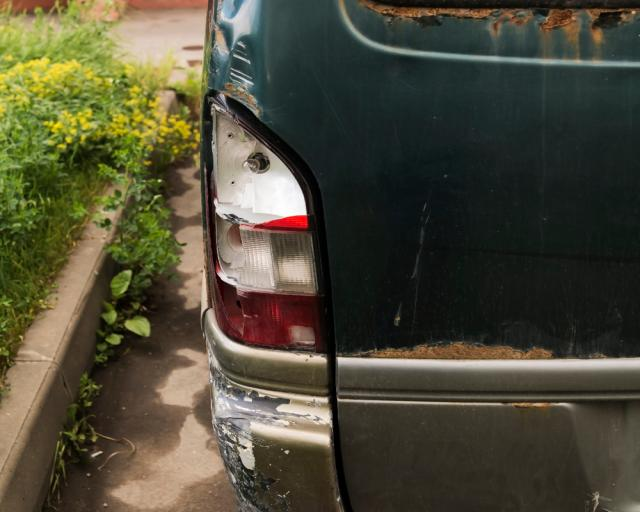dent: (208, 0, 263, 116)
lamp broken: (206, 102, 328, 355)
scratch: (210, 358, 323, 512)
